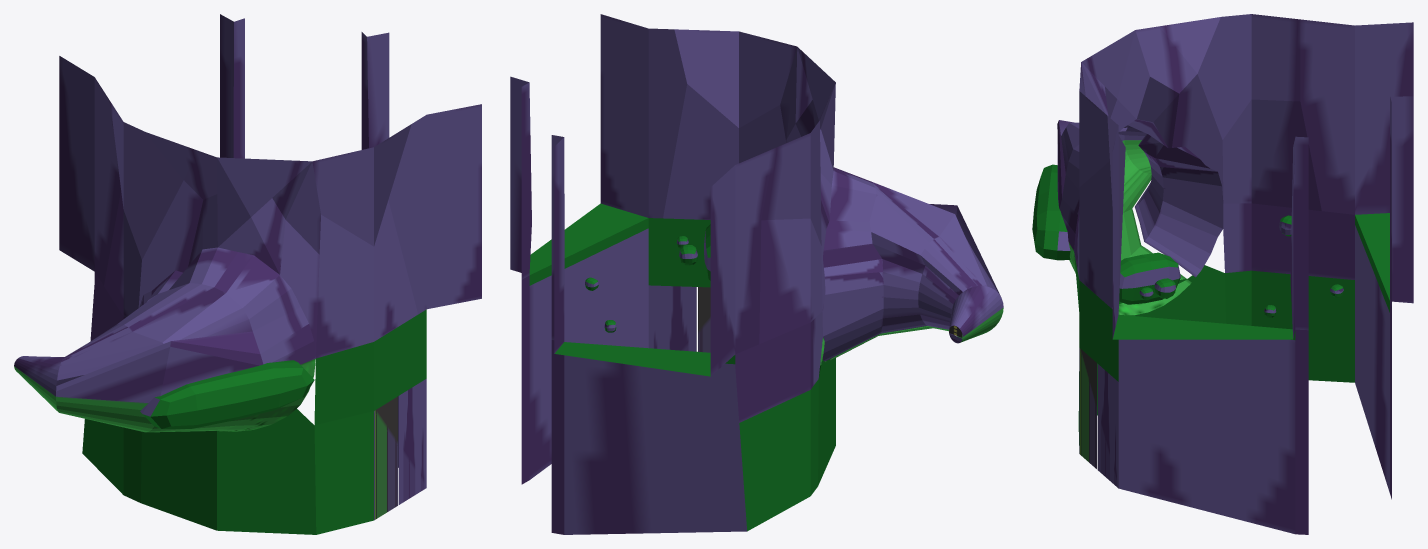
Rendered from Mapa Abejas 1.fbx.
3 renders of one model, left to right at view 1: azimuth 30°, elevation 25°; view 2: azimuth 150°, elevation 25°; view 3: azimuth 270°, elevation 25°, orthographic. The views are drawn at different scales.
Parts seen in each view (by area): view 1: Mapa5; view 2: Mapa5; view 3: Mapa5.
Part boxes in pixels (bbox=[...]): Mapa5: bbox=[14, 14, 481, 534]; Mapa5: bbox=[510, 14, 1003, 534]; Mapa5: bbox=[1032, 14, 1413, 534].
Bounding box in the file's own units: 31359 × 25350 × 29166.
2 materials, 1 textured.
